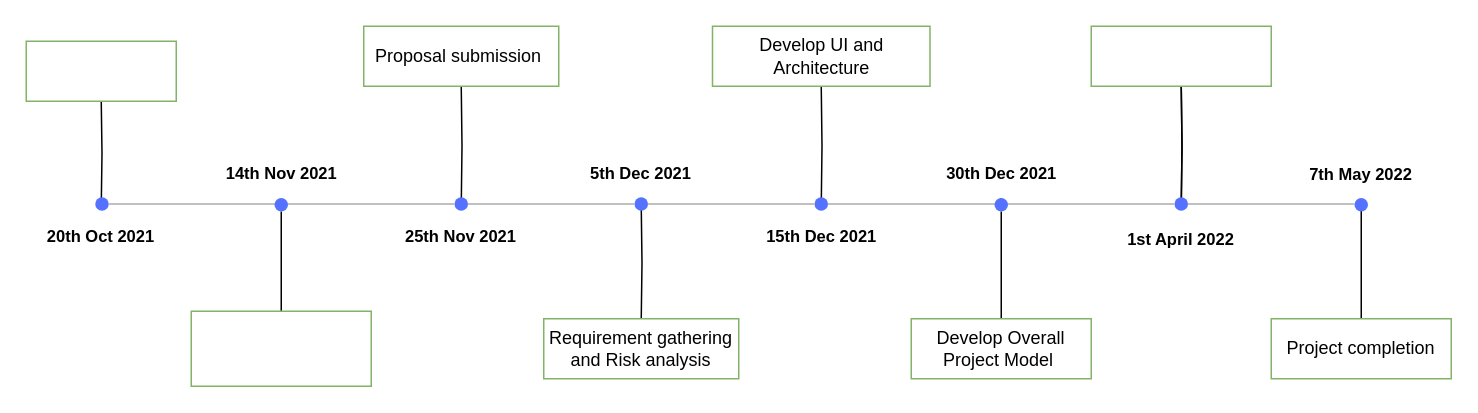
Some shapes in this 1478 by 413 pixel diagram are drawn without their labels. Here are the shapes that lost their labels. From the top down, the centre of each, then its label:
point 100,70: Project topic finalization
point 1180,55: Development and testing
point 280,348: Finalize end users and features
